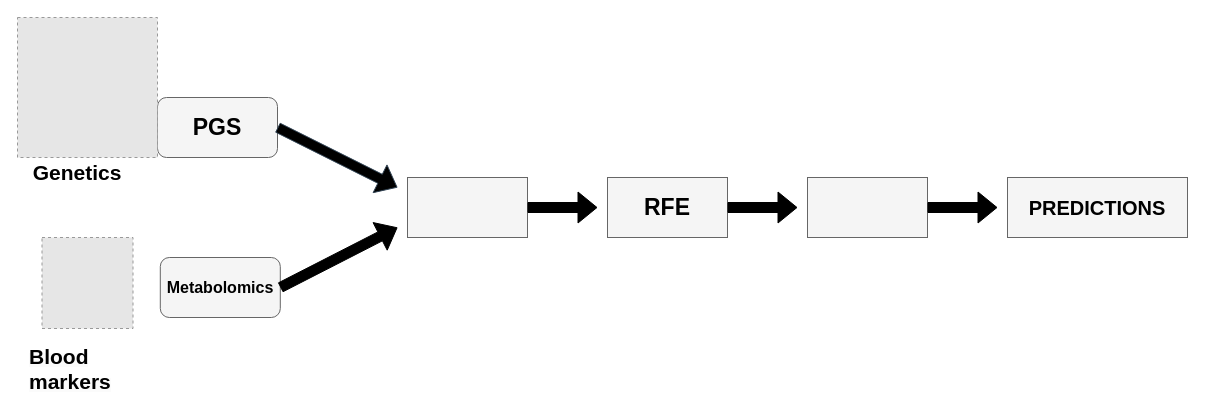
This 1205x412 diagram has some shape labels left out. Grey dashed boxes stand in for pictures. Each missing label, with the centre of its shape:
Fusion: point 467,207
RFR: point 867,207
